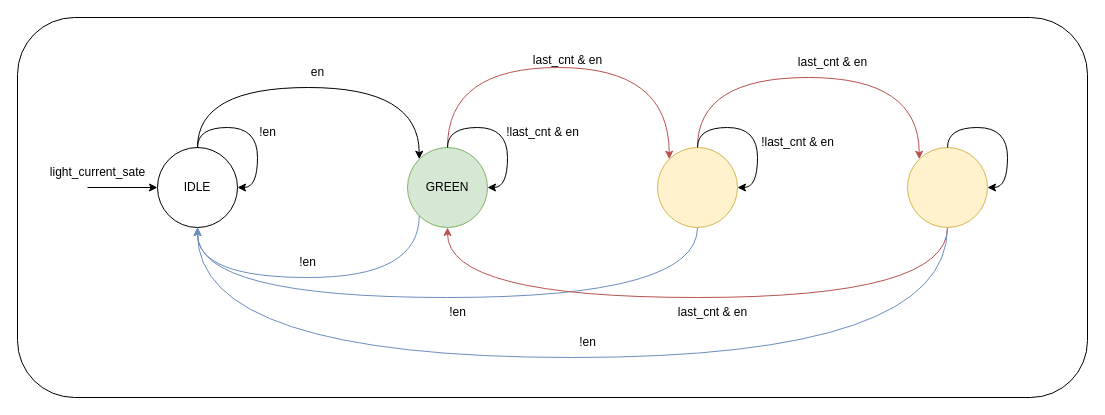
This 1105x415 diagram has some shape labels left out. The centre of each missing label's shape, as x and y in pixels:
RED: (x=947, y=187)
YELLOW: (x=697, y=187)
